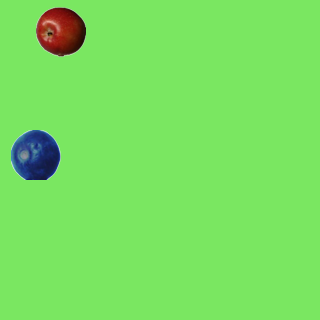Apple Braeburn: (35, 6, 85, 56)
Huckleberry: (10, 129, 60, 179)
